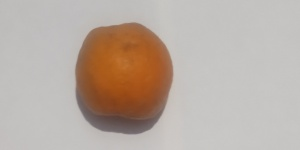BAD: (76, 25, 178, 121)
